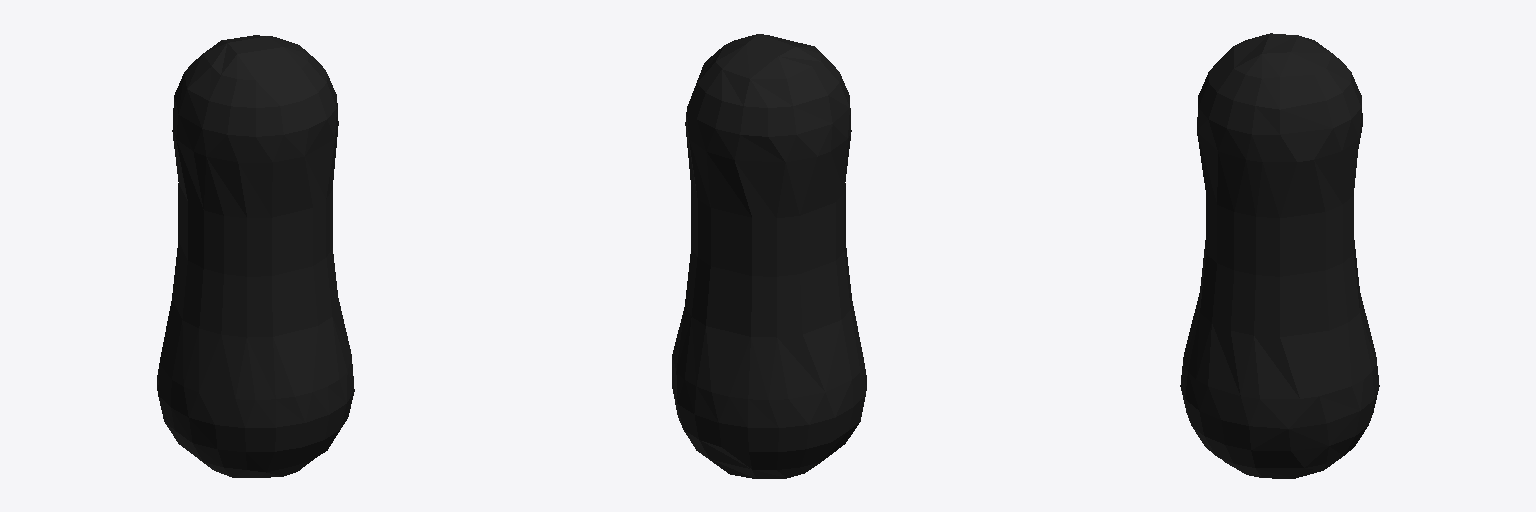
3 views of the same model, side by side, from view 1: azimuth 30°, elevation 25°; view 2: azimuth 150°, elevation 25°; view 3: azimuth 270°, elevation 25° (orthographic).
Parts seen in each view (by area): view 1: th_proximal_th_proximal_001; view 2: th_proximal_th_proximal_001; view 3: th_proximal_th_proximal_001.
Part boxes in pixels (x1,y1,x2,y2): th_proximal_th_proximal_001: (157,35,354,477); th_proximal_th_proximal_001: (672,34,866,478); th_proximal_th_proximal_001: (1180,33,1379,478).
Bounding box in the file's own units: 0.2568 × 0.6085 × 0.2596.